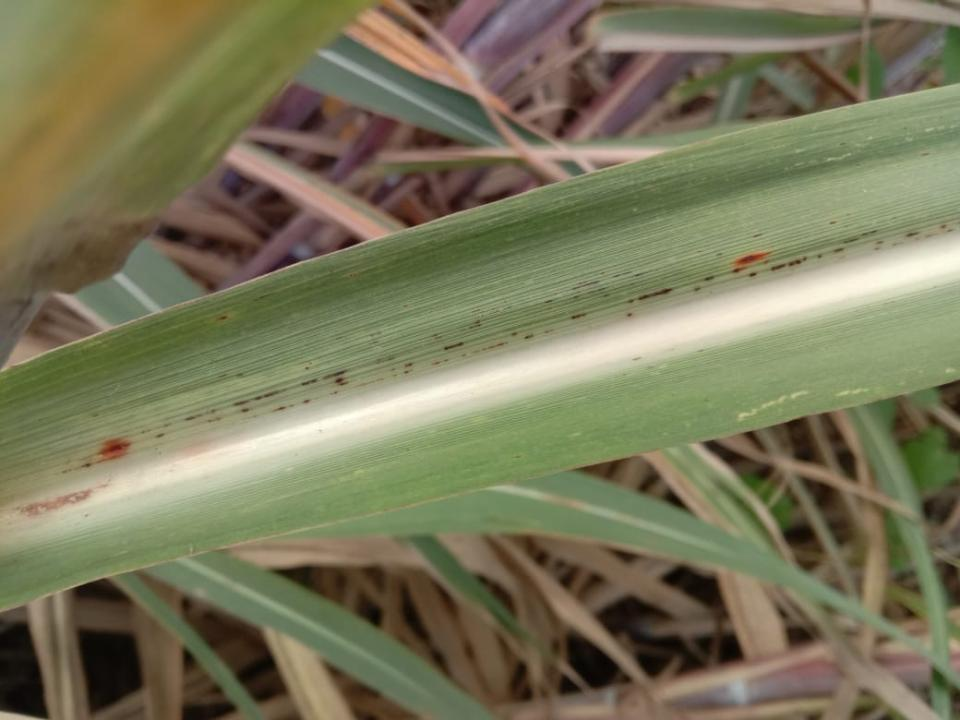RedRot: (11, 484, 96, 521)
Rust: (232, 388, 283, 407), (301, 368, 348, 387), (102, 437, 131, 461), (470, 339, 510, 356), (732, 251, 773, 265), (638, 286, 673, 301), (570, 279, 600, 292), (442, 341, 465, 353), (184, 413, 204, 423), (612, 270, 632, 279), (730, 265, 747, 275), (861, 228, 879, 237), (770, 262, 786, 272), (905, 230, 921, 238), (788, 258, 802, 267), (571, 312, 586, 320), (842, 238, 859, 245), (634, 270, 650, 277), (215, 314, 229, 322), (272, 406, 286, 413), (833, 247, 844, 255), (704, 274, 715, 282), (523, 333, 535, 340), (892, 241, 904, 247), (752, 232, 764, 238), (338, 380, 350, 386), (81, 463, 92, 469), (748, 272, 758, 278), (240, 408, 250, 414), (404, 362, 414, 368), (431, 360, 441, 366), (510, 331, 519, 337), (302, 398, 311, 404), (544, 299, 554, 304), (940, 223, 947, 230), (829, 220, 838, 225), (156, 433, 165, 438), (876, 240, 884, 245), (873, 246, 881, 251), (335, 378, 343, 383), (801, 255, 807, 261), (816, 254, 822, 260), (921, 152, 930, 156), (694, 287, 701, 292), (628, 299, 635, 304), (627, 313, 633, 317), (946, 229, 953, 232)
